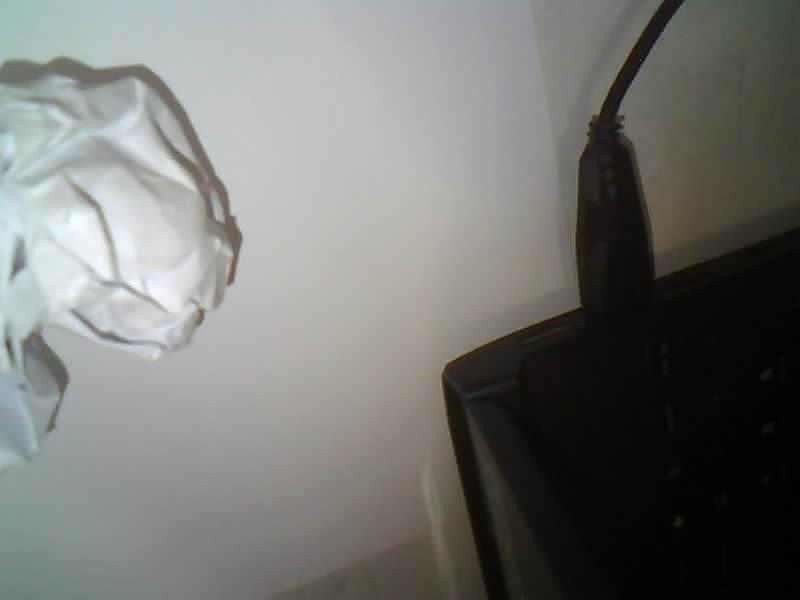biodegradable: (0, 72, 234, 469)
